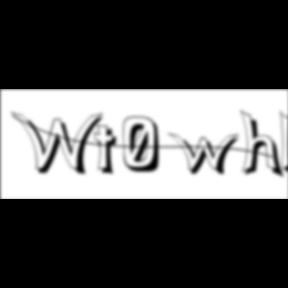0: (122, 115, 168, 174)
W: (11, 110, 109, 178)
h: (240, 108, 288, 182)
t: (94, 124, 125, 179)
w: (168, 132, 246, 178)
